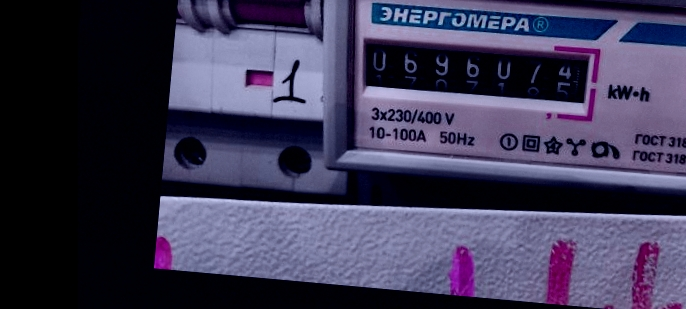0: (370, 45, 390, 72), (495, 53, 514, 81)
4: (558, 58, 573, 80)
5: (556, 80, 572, 100)
6: (464, 51, 483, 79), (401, 47, 421, 73)
7: (526, 57, 544, 84)
9: (432, 50, 452, 77)
screen: (353, 24, 605, 123)
